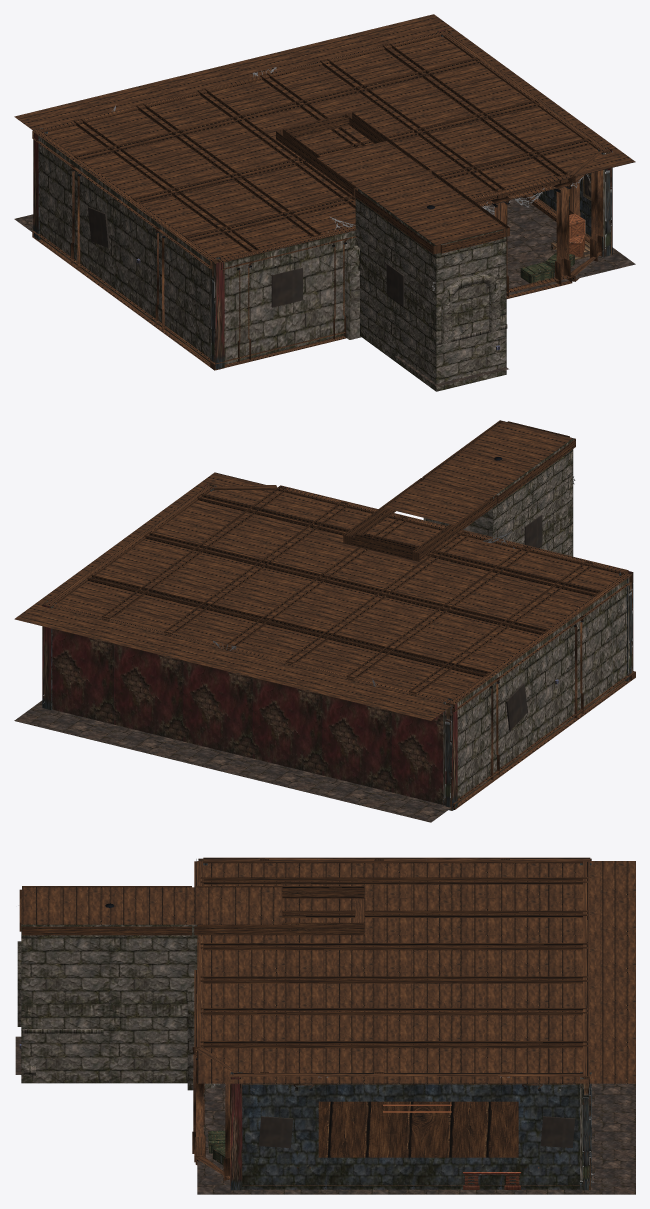
File: Haunted_Mansion.fbx
The picture shows the model from 3 angles, top to bottom: view 1: azimuth 30°, elevation 25°; view 2: azimuth 150°, elevation 25°; view 3: azimuth 270°, elevation 25°; orthographic projection. The views are drawn at different scales.
Visible parts, largest first — view 1: Roof, Walls.010, Walls.003, Roof.001, Walls.004, Walls.005, Walls.007, Walls, Floor, Walls.013, Walls.017, Walls.011 (+7 smaller); view 2: Roof, Walls.002, Walls.010, Walls.003, Roof.001, Floor, Walls.005, Walls, Walls.011, Paintings.004; view 3: Roof, Walls.006, Walls.010, Walls.009, Roof.001, Walls, Floor, Walls.017, Walls.013, Paintings.003, Paintings.005, Desk 3 (+1 smaller).
Boxes of the visible parts, x1,y1,x2,y2 form: Roof: [14, 14, 635, 263]; Walls.010: [32, 30, 609, 269]; Walls.003: [39, 136, 215, 365]; Roof.001: [276, 112, 509, 254]; Walls.004: [224, 230, 355, 364]; Walls.005: [355, 187, 436, 391]; Walls.007: [436, 229, 506, 391]; Walls: [32, 29, 612, 370]; Floor: [14, 197, 635, 295]; Walls.013: [491, 170, 604, 296]; Walls.017: [344, 245, 500, 343]; Walls.011: [33, 127, 165, 329]; Roof: [14, 472, 630, 720]; Walls.002: [52, 628, 452, 805]; Walls.010: [44, 485, 631, 711]; Walls.003: [457, 579, 631, 802]; Roof.001: [343, 420, 575, 561]; Floor: [14, 700, 450, 822]; Walls.005: [493, 438, 573, 556]; Walls: [42, 476, 635, 809]; Walls.011: [443, 615, 584, 810]; Paintings.004: [506, 683, 527, 730]; Roof: [197, 861, 635, 1083]; Walls.006: [21, 924, 197, 1083]; Walls.010: [194, 857, 590, 1084]; Walls.009: [242, 1083, 589, 1189]; Roof.001: [19, 886, 364, 935]; Walls: [18, 858, 594, 1190]; Floor: [197, 1083, 635, 1194]; Walls.017: [17, 941, 220, 1090]; Walls.013: [192, 1047, 230, 1185]; Paintings.003: [258, 1116, 293, 1147]; Paintings.005: [540, 1116, 575, 1147]; Desk 3: [462, 1172, 521, 1189].
Bounding box in the file's own units: 19.15 × 6.57 × 22.47.
